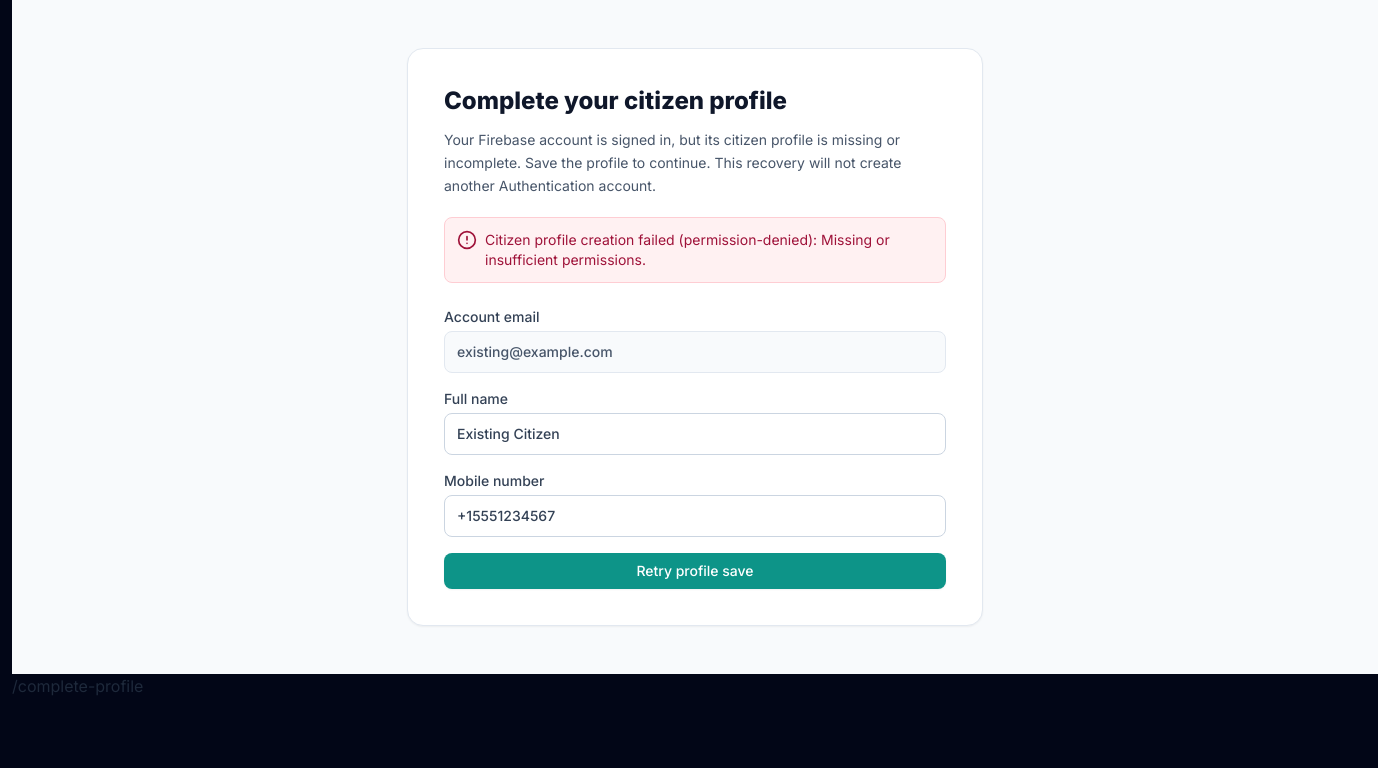
CompleteCitizenProfilePage › returns to an officer application after profile recovery when requested
Click the button "Retry profile save": x=695, y=571 [444, 553, 946, 589]
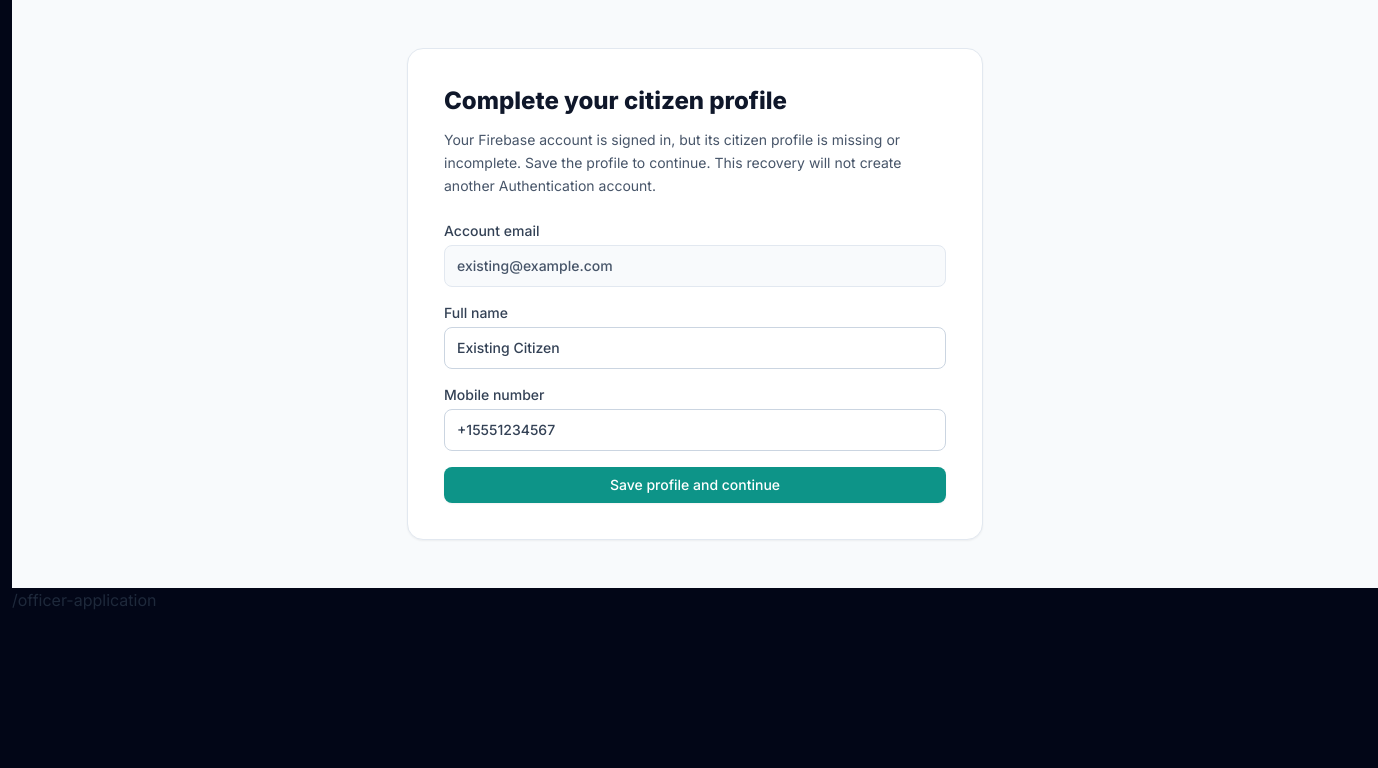
expect the text with test id "route" reads "/officer-application": met, box [12, 590, 156, 610]
